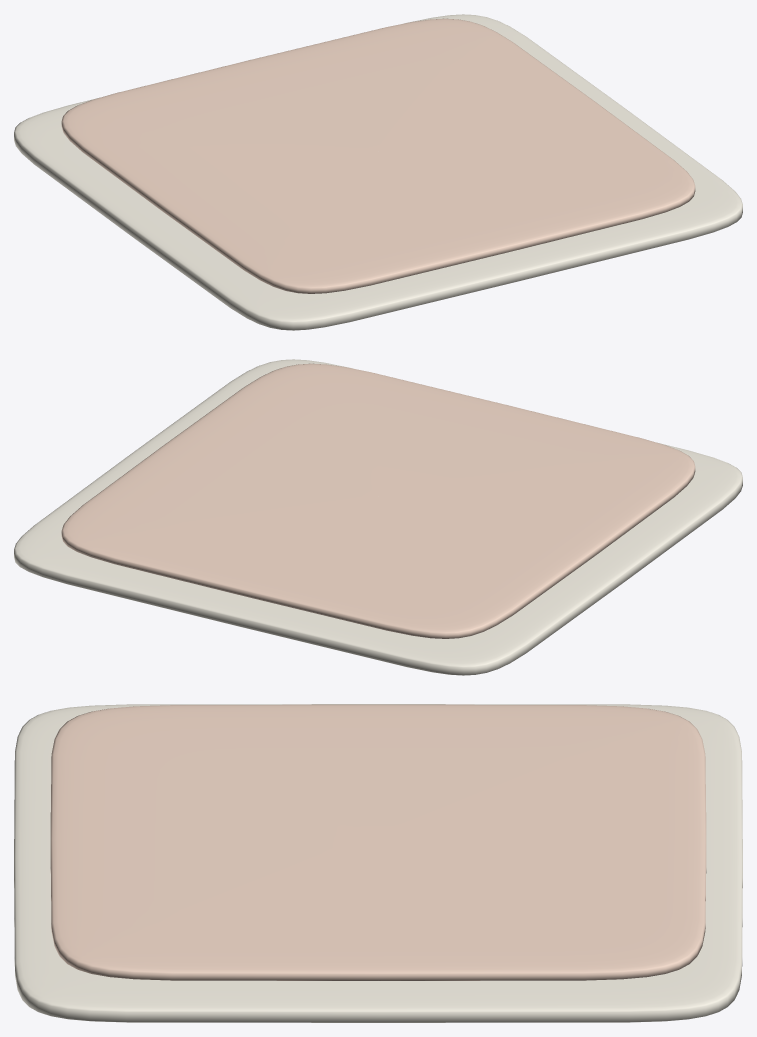
The model's file is skin_graft.glb.
The picture shows the model from 3 angles, top to bottom: view 1: azimuth 30°, elevation 25°; view 2: azimuth 150°, elevation 25°; view 3: azimuth 270°, elevation 25°; orthographic projection. The views are drawn at different scales.
Visible parts, largest first — view 1: Graft, Backing; view 2: Graft, Backing; view 3: Graft, Backing.
Part boxes in pixels (left/top/right/bottom): Graft: left=61, top=18, right=695, bottom=293; Backing: left=14, top=14, right=742, bottom=330; Graft: left=61, top=363, right=695, bottom=638; Backing: left=14, top=359, right=742, bottom=675; Graft: left=50, top=704, right=706, bottom=980; Backing: left=14, top=704, right=742, bottom=1022.
Size of the model in its own units: 0.0799 by 0.00425 by 0.0799.
